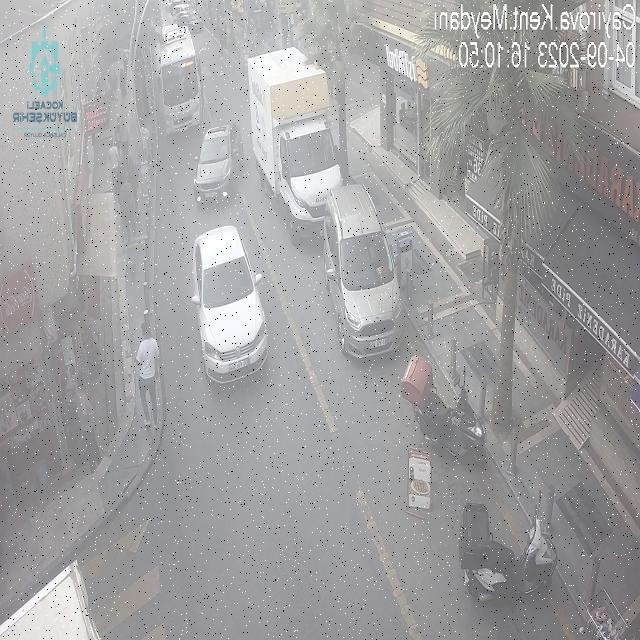Car: (181, 227, 287, 391), (323, 184, 405, 352), (155, 21, 203, 135), (193, 125, 235, 203)
Cycle: (461, 487, 571, 599), (396, 358, 502, 462)
Truck: (237, 50, 355, 222)
